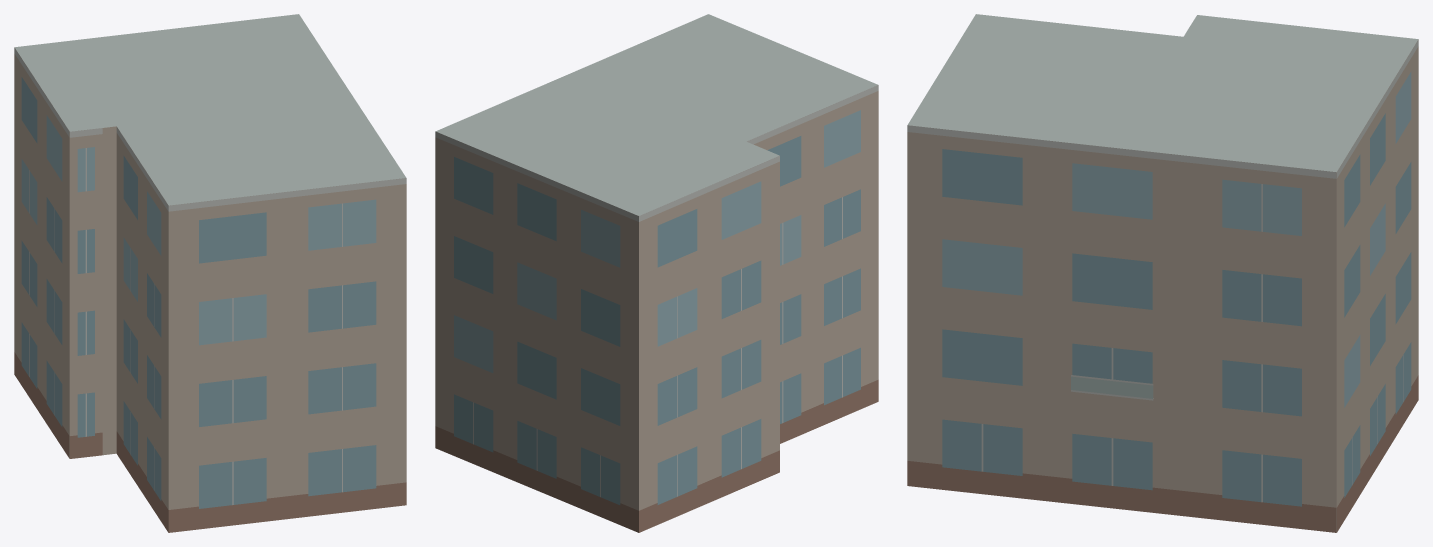
The model's file is survey-upis-32961255.glb.
The picture shows the model from 3 angles, left to right: view 1: azimuth 30°, elevation 25°; view 2: azimuth 150°, elevation 25°; view 3: azimuth 270°, elevation 25°; orthographic projection. The views are drawn at different scales.
Visible parts, largest first — view 1: survey-upis-32961255.tmp; view 2: survey-upis-32961255.tmp; view 3: survey-upis-32961255.tmp.
Boxes of the visible parts, x1=… form: survey-upis-32961255.tmp: x1=14, y1=14, x2=406, y2=532; survey-upis-32961255.tmp: x1=435, y1=14, x2=878, y2=532; survey-upis-32961255.tmp: x1=907, y1=14, x2=1418, y2=532.
Size of the model in its own units: 12.36 by 13.13 by 16.88.
